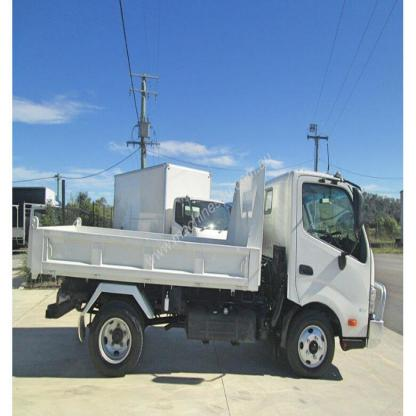dump_truck: (22, 133, 388, 380)
